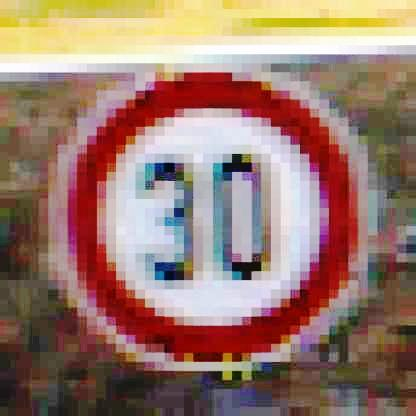Speed Limit -30-: (57, 60, 373, 374)
